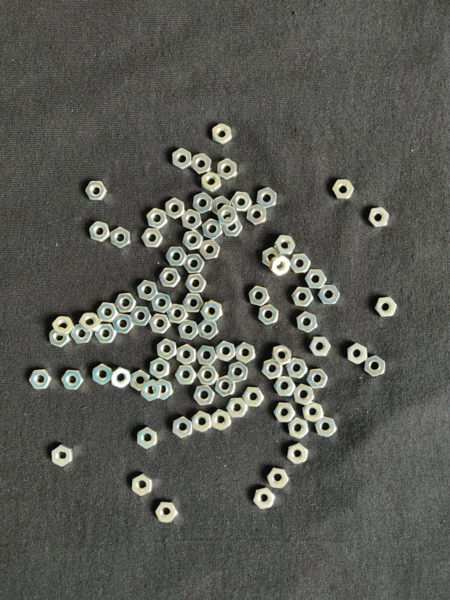nut: (253, 488, 277, 510), (52, 444, 74, 467), (155, 502, 179, 523), (274, 376, 296, 398), (365, 355, 386, 378), (112, 314, 135, 335), (132, 474, 153, 496), (137, 428, 158, 450), (288, 443, 309, 465), (289, 418, 310, 440), (315, 417, 337, 438), (141, 380, 162, 402), (215, 376, 236, 398), (175, 365, 197, 386), (270, 255, 291, 277), (191, 153, 212, 175), (242, 387, 265, 407), (274, 403, 297, 423), (306, 369, 329, 389), (318, 285, 341, 305), (85, 182, 108, 202), (303, 402, 324, 423), (294, 385, 315, 406), (287, 358, 308, 379), (157, 339, 178, 360), (235, 343, 256, 364), (149, 314, 170, 335), (137, 280, 158, 301), (297, 312, 318, 333), (369, 207, 390, 228), (89, 222, 110, 243), (267, 469, 289, 489), (211, 410, 231, 432), (262, 360, 284, 380), (272, 345, 292, 367), (30, 370, 52, 390), (92, 364, 112, 386), (111, 367, 131, 389), (130, 370, 150, 392), (153, 379, 173, 401), (198, 366, 220, 386), (216, 341, 236, 363), (348, 343, 368, 365), (115, 293, 137, 313), (167, 304, 189, 324), (375, 298, 397, 318), (292, 287, 314, 307), (333, 180, 355, 200), (111, 227, 131, 249), (146, 209, 168, 229), (231, 192, 253, 212), (212, 123, 232, 145), (52, 317, 75, 336), (192, 412, 212, 433), (227, 399, 248, 419), (194, 386, 215, 406), (228, 362, 248, 383), (310, 337, 331, 357), (49, 328, 70, 348), (97, 303, 118, 323), (152, 293, 172, 314), (160, 268, 181, 288), (290, 254, 311, 274), (200, 240, 221, 260), (165, 199, 185, 220), (203, 219, 223, 240), (182, 210, 202, 231), (193, 193, 213, 214), (218, 205, 238, 226), (247, 205, 267, 226), (257, 188, 277, 209), (201, 172, 222, 192), (217, 159, 237, 180), (173, 417, 192, 439), (62, 371, 84, 390), (196, 346, 218, 365), (71, 325, 93, 344), (79, 313, 101, 332), (130, 307, 152, 326), (201, 303, 223, 322), (183, 255, 205, 274), (305, 270, 327, 289), (221, 218, 243, 237), (178, 320, 198, 340), (259, 305, 279, 325), (184, 231, 204, 251), (212, 197, 232, 217), (96, 324, 117, 343), (199, 320, 218, 341), (166, 247, 187, 266), (249, 287, 270, 306), (275, 236, 296, 255), (142, 229, 163, 248), (173, 149, 192, 170), (150, 359, 169, 379), (177, 345, 196, 365), (183, 294, 204, 312), (186, 275, 207, 293), (263, 248, 280, 267)
